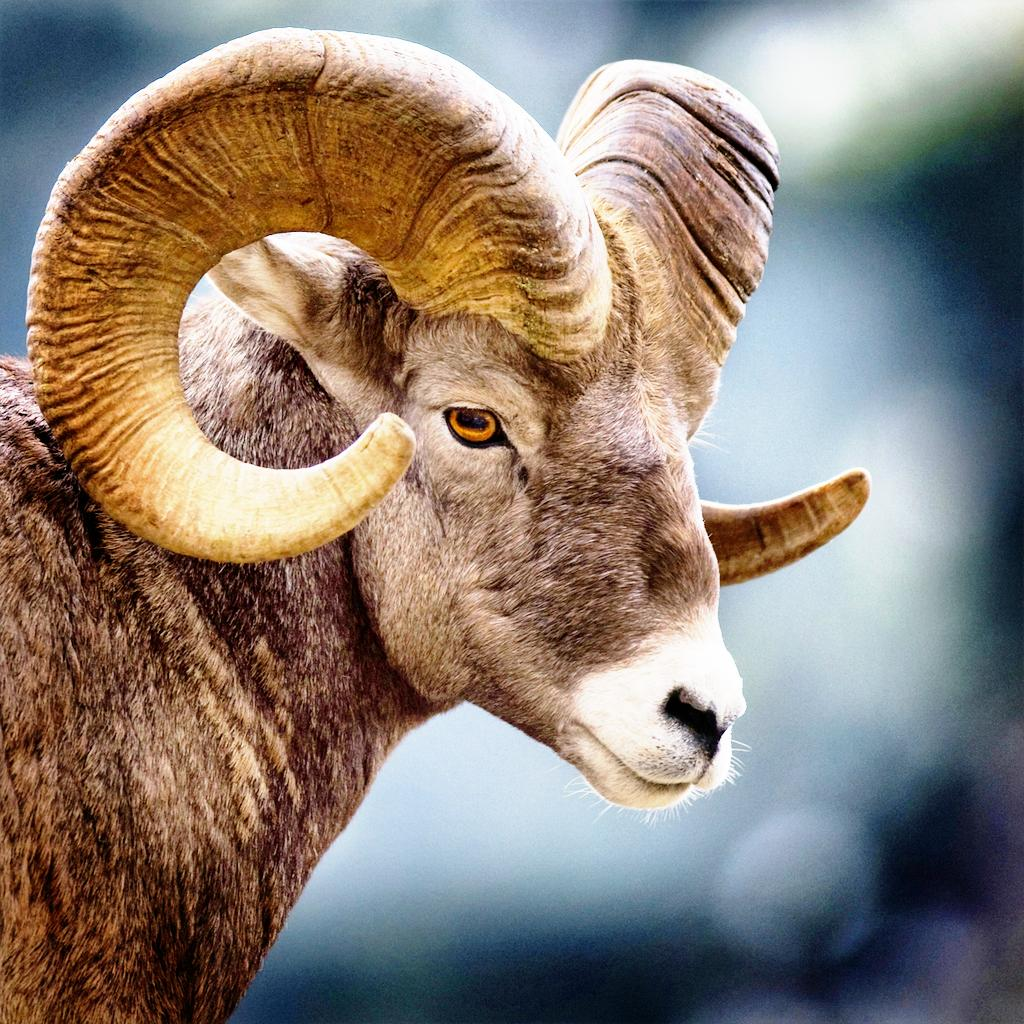Sheep: (0, 8, 894, 1010)
